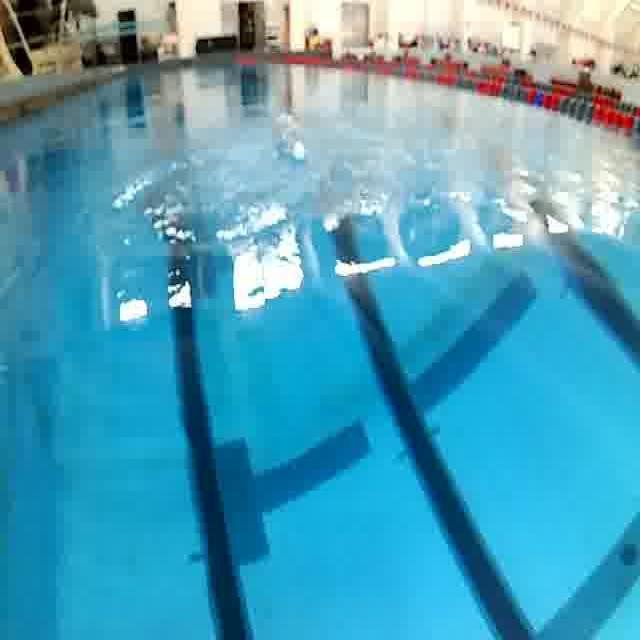Bottle: (266, 107, 318, 174)
